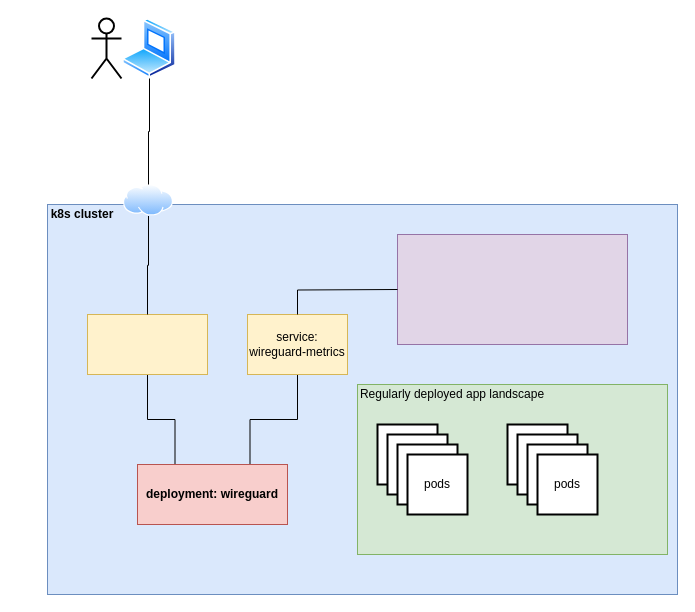
The diagram is 695 pixels wide and 612 high, and some of its shapes have lost their labels. The shapes that lost their labels are listed below. From the top down, each one's centre as x and y in pixels, then its label:
point (512, 289): monitoring: Prometheus + Grafna
point (147, 344): service;loadbalancer: wireguard-service
